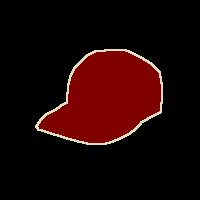hat: (36, 49, 162, 144)
